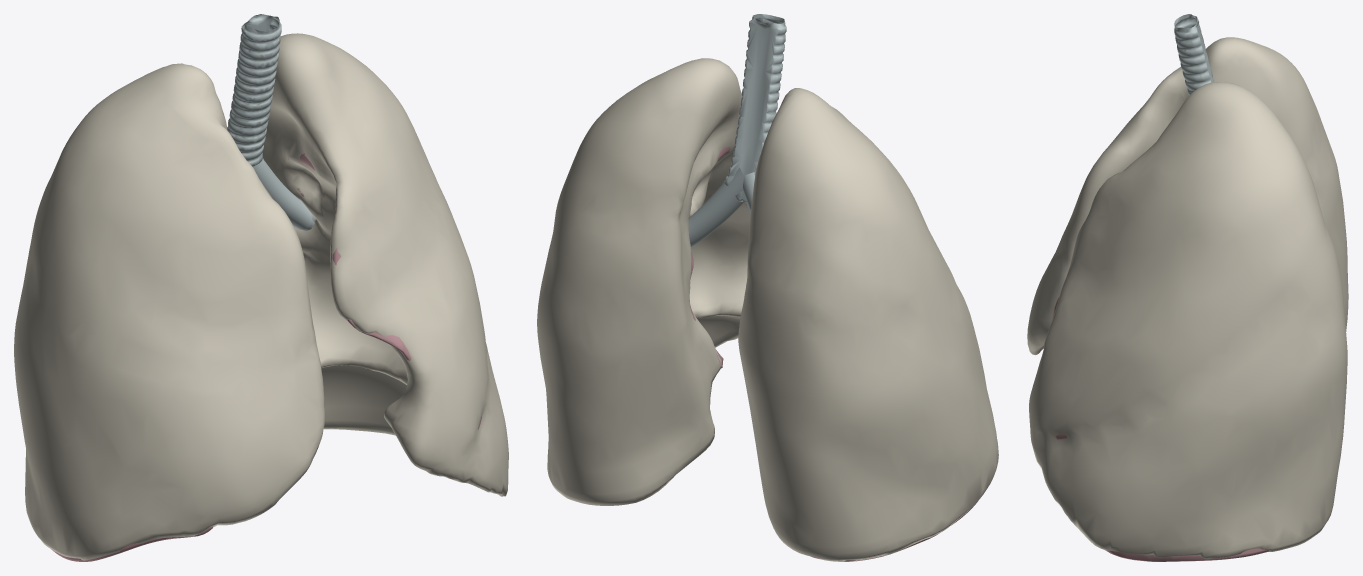
File: respiratory.glb
3 renders of one model, left to right at view 1: azimuth 30°, elevation 25°; view 2: azimuth 150°, elevation 25°; view 3: azimuth 270°, elevation 25°, orthographic. The views are drawn at different scales.
Parts seen in each view (by area): view 1: za-ea69cac7af2f4e11, za-32e5d7e1d2f0827a, za-3d79616613fd1f75, za-0667ce7832fc9367; view 2: za-ea69cac7af2f4e11, za-32e5d7e1d2f0827a, za-3d79616613fd1f75; view 3: za-ea69cac7af2f4e11, za-32e5d7e1d2f0827a, za-2de3d6737090b6f5.
Boxes of the visible parts, x1=… form: za-ea69cac7af2f4e11: x1=14, y1=33, x2=508, y2=560; za-32e5d7e1d2f0827a: x1=227, y1=14, x2=281, y2=166; za-3d79616613fd1f75: x1=253, y1=159, x2=312, y2=229; za-0667ce7832fc9367: x1=285, y1=153, x2=481, y2=428; za-ea69cac7af2f4e11: x1=537, y1=58, x2=998, y2=561; za-32e5d7e1d2f0827a: x1=724, y1=14, x2=786, y2=202; za-3d79616613fd1f75: x1=688, y1=167, x2=743, y2=246; za-ea69cac7af2f4e11: x1=1027, y1=37, x2=1348, y2=559; za-32e5d7e1d2f0827a: x1=1174, y1=14, x2=1214, y2=95; za-2de3d6737090b6f5: x1=1105, y1=548, x2=1269, y2=561.
Size of the model in its own units: 0.2633 by 0.2936 by 0.1882.
